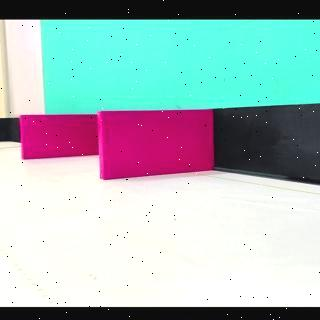xparking: (100, 114, 210, 171), (22, 114, 95, 154)
